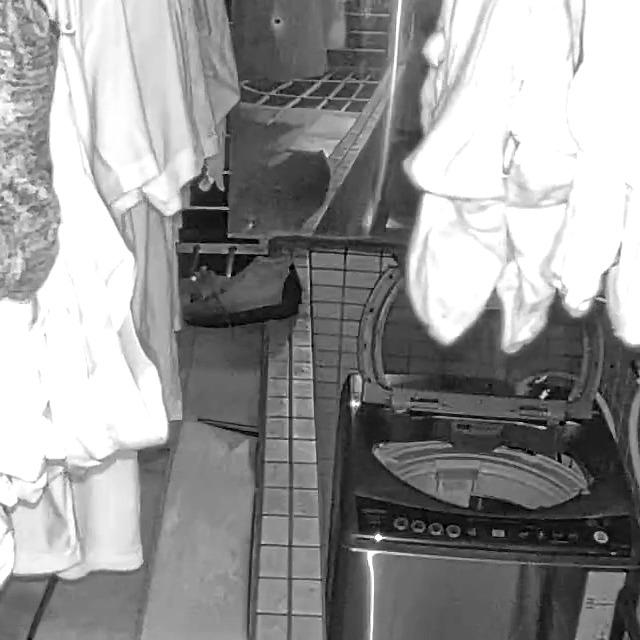rat: (191, 264, 233, 345)
